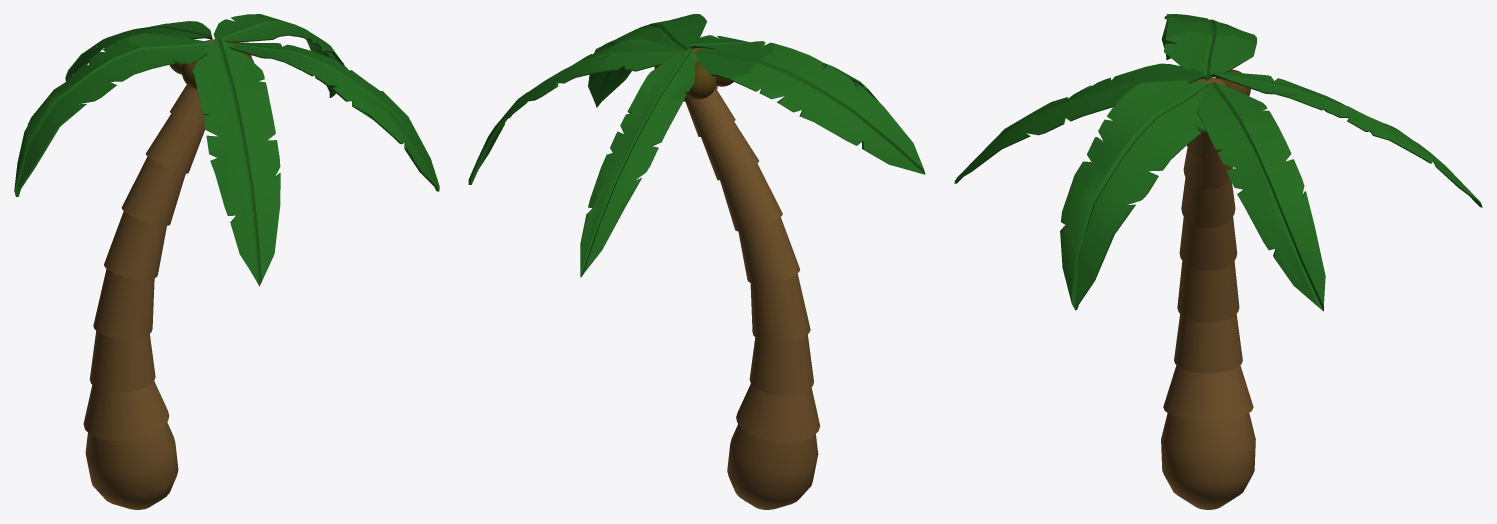
The model's file is Palmier.fbx.
3 renders of one model, left to right at view 1: azimuth 30°, elevation 25°; view 2: azimuth 150°, elevation 25°; view 3: azimuth 270°, elevation 25°, orthographic. The views are drawn at different scales.
Parts seen in each view (by area): view 1: Plane.005; view 2: Plane.005; view 3: Plane.005.
Part boxes in pixels (<box>): Plane.005: <box>14,14,439,509</box>; Plane.005: <box>468,14,925,509</box>; Plane.005: <box>954,14,1482,509</box>.
Bounding box in the file's own units: 144 × 161 × 161.
